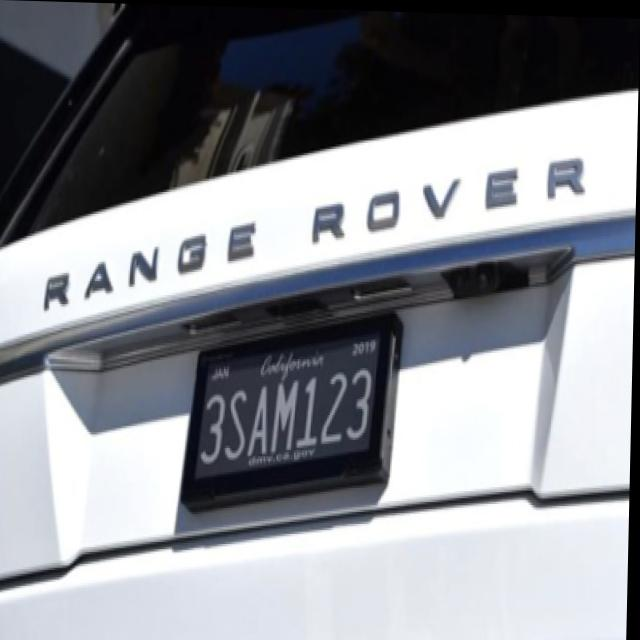licence: (192, 343, 378, 484)
